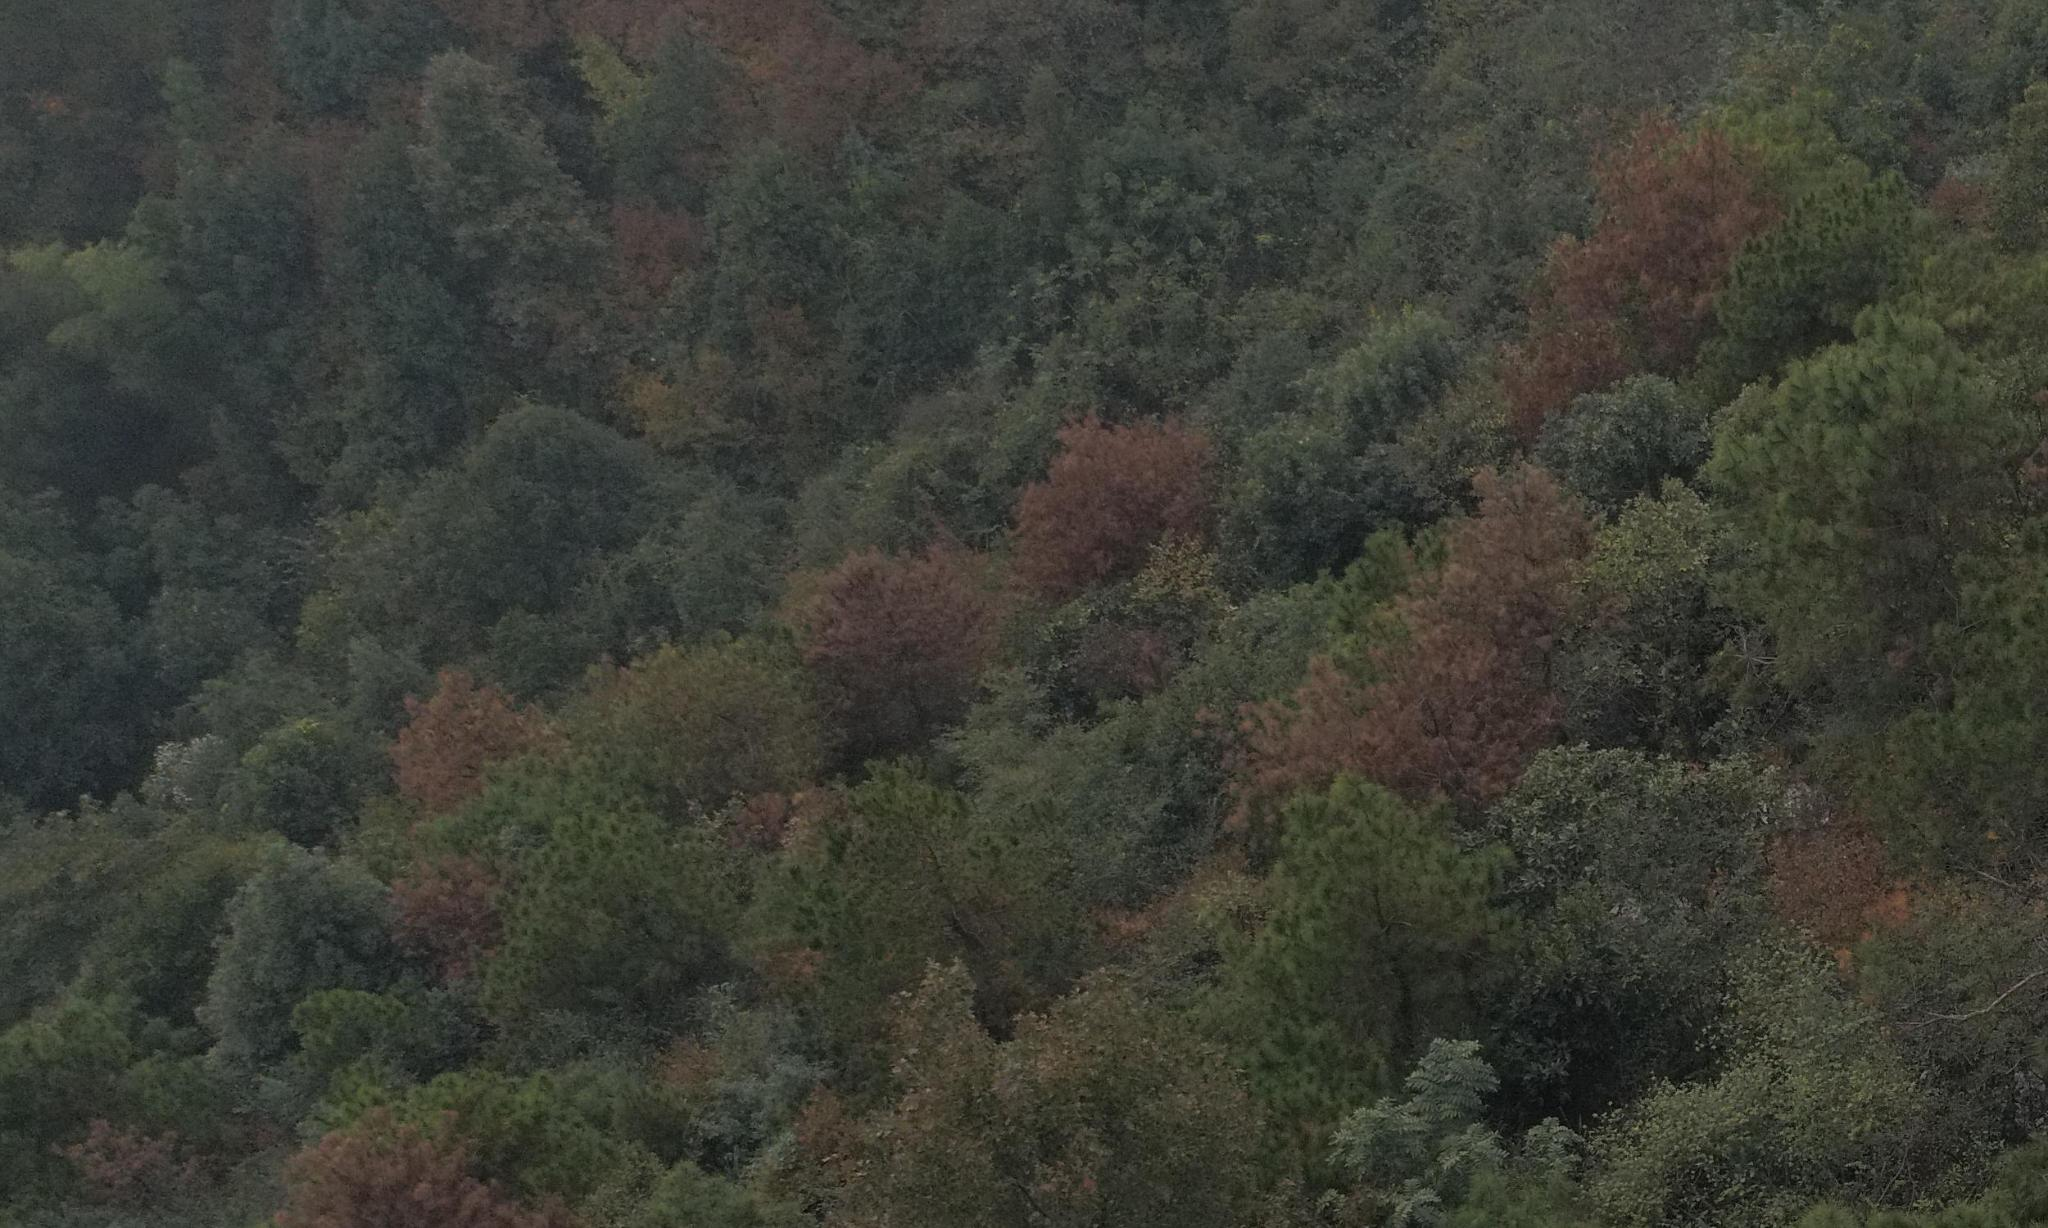heavy: (1241, 468, 1620, 830), (1494, 111, 1842, 428), (781, 520, 1047, 773), (987, 418, 1266, 643), (374, 642, 574, 813), (1732, 797, 1928, 965), (287, 1115, 555, 1228)
light: (430, 0, 995, 306)
